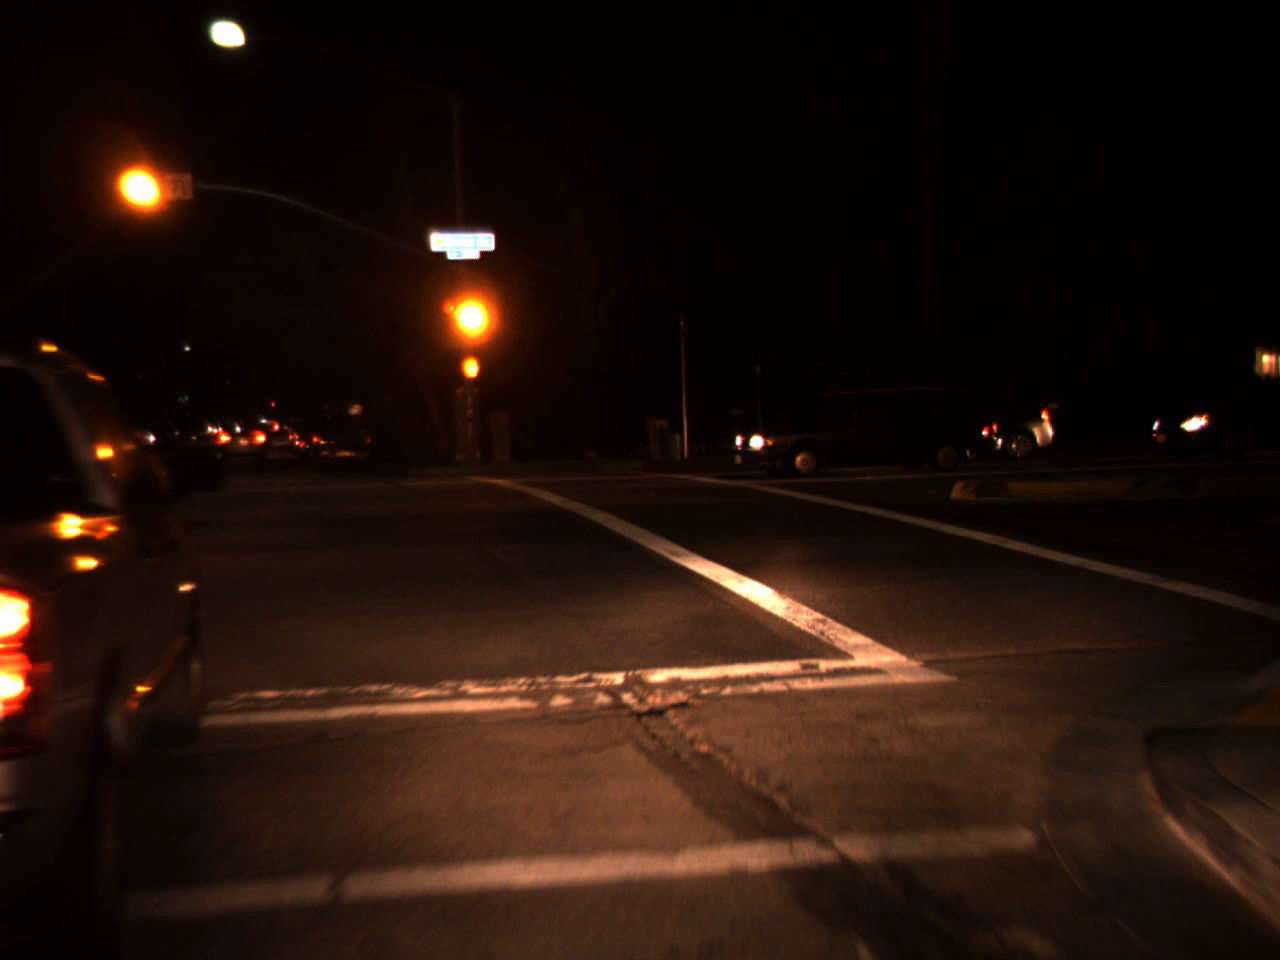warning: (120, 158, 162, 215), (455, 285, 489, 345)
